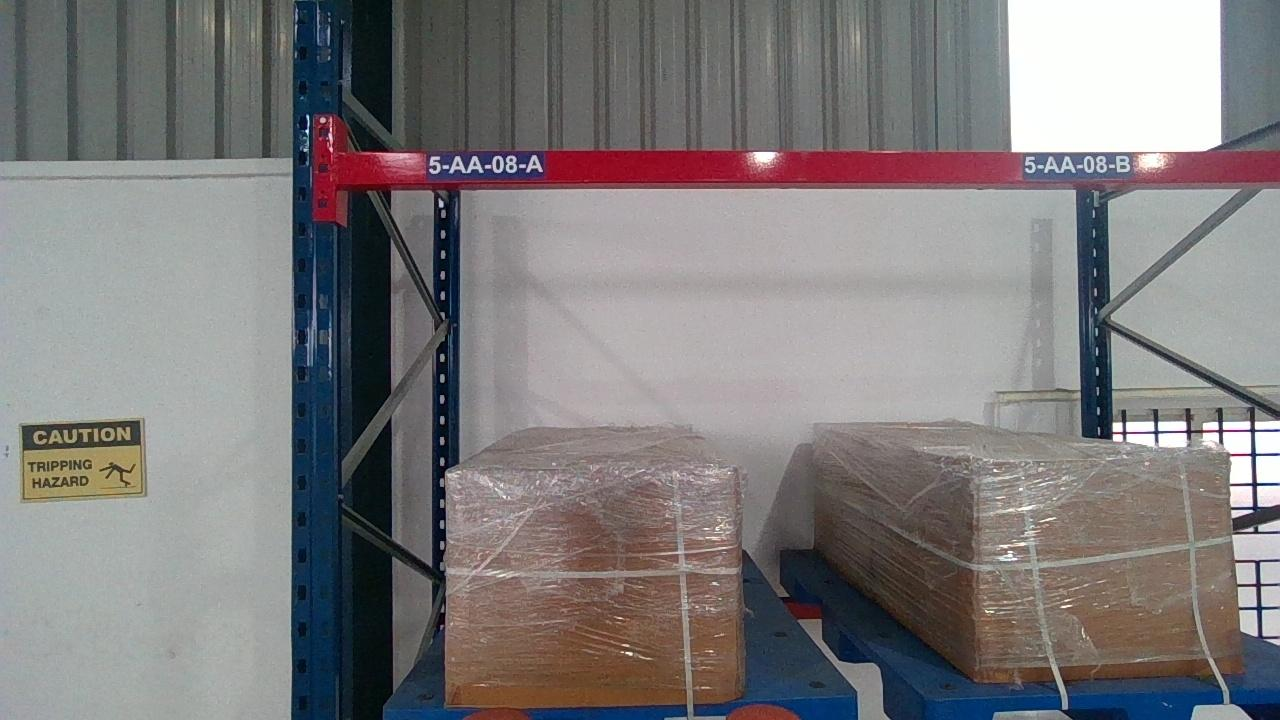h_rack: (335, 147, 1276, 185)
small_pallet: (928, 692, 1278, 719)
